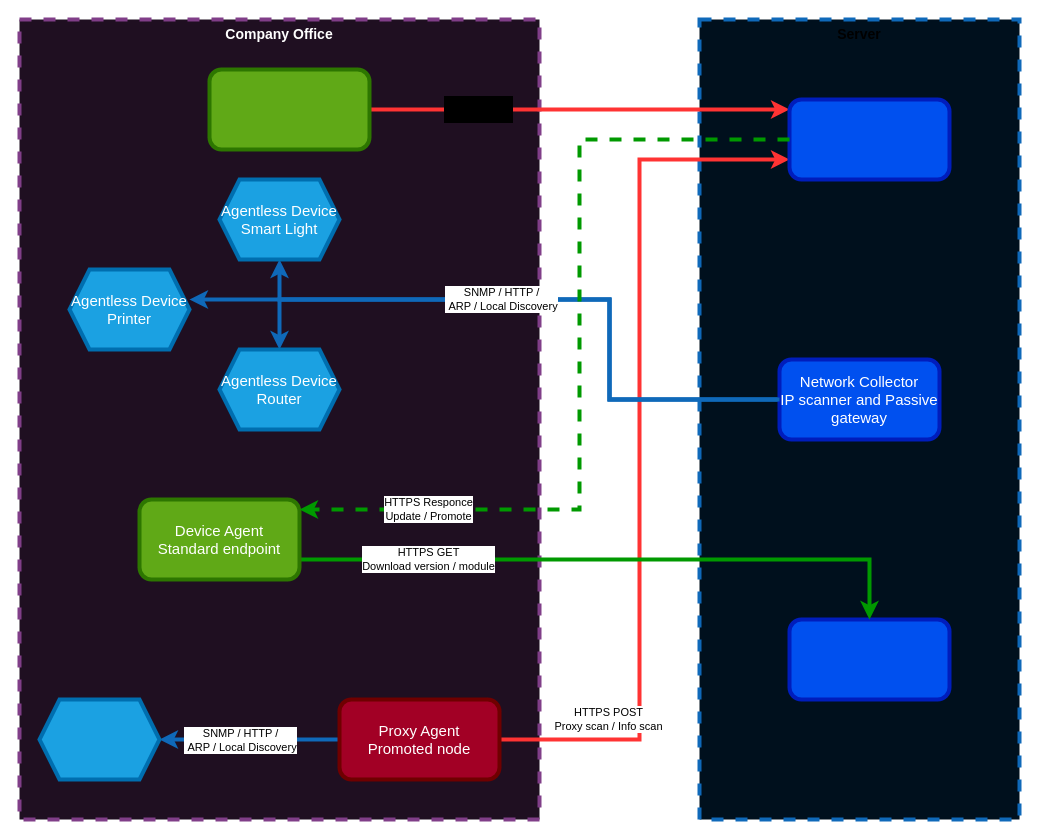
Image size: 1038x838. Some labels were removed from this diagram. Here are the shapes that lost their labels. From the top down, the centre of each, then its label:
At (x=289, y=109): "Device Agent Standard endpoint PC/Laptop/Sub-Server".
At (x=869, y=139): "Agent Handler Endpoint ingress".
At (x=869, y=659): "Artifact Repository Binary distribution".
At (x=99, y=739): "Agentless Device Smart Screen".
